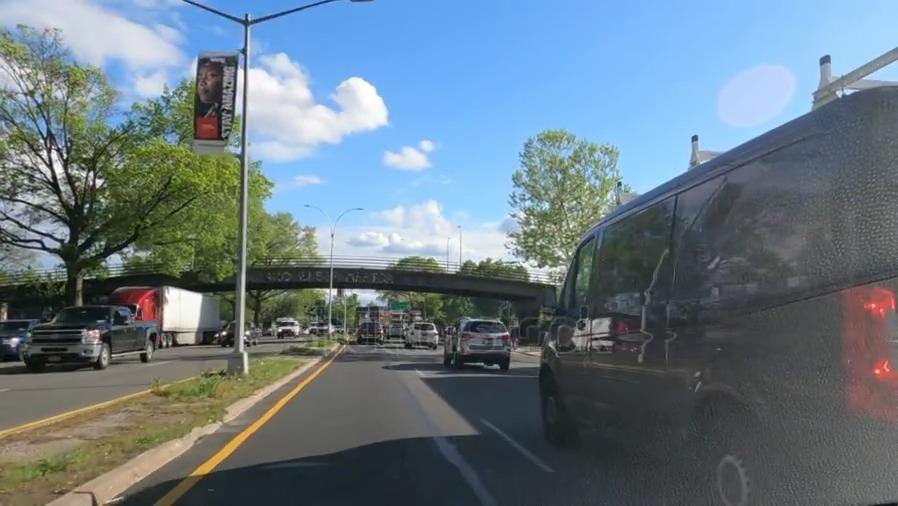car: (22, 304, 159, 369), (448, 317, 517, 366), (404, 317, 437, 355), (224, 321, 257, 345), (360, 319, 387, 347)
truck: (121, 283, 222, 353)
van: (556, 92, 897, 506), (280, 320, 300, 340)
wheel: (685, 401, 765, 506), (539, 371, 572, 441)
